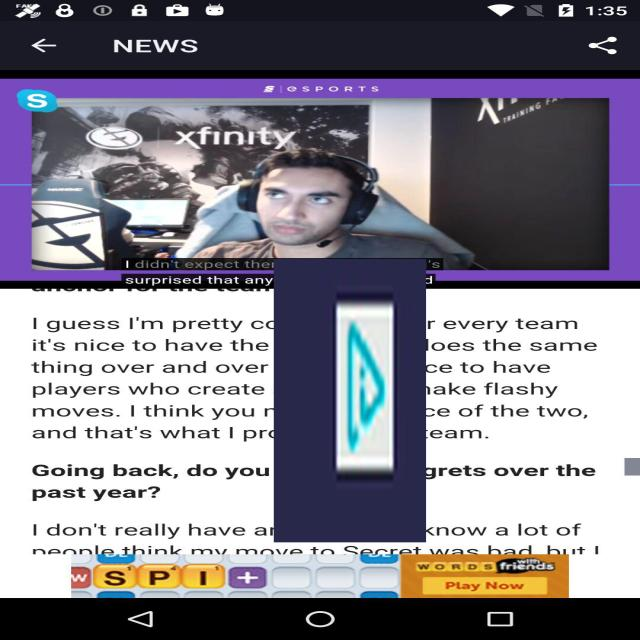sneaking: (274, 259, 426, 542)
